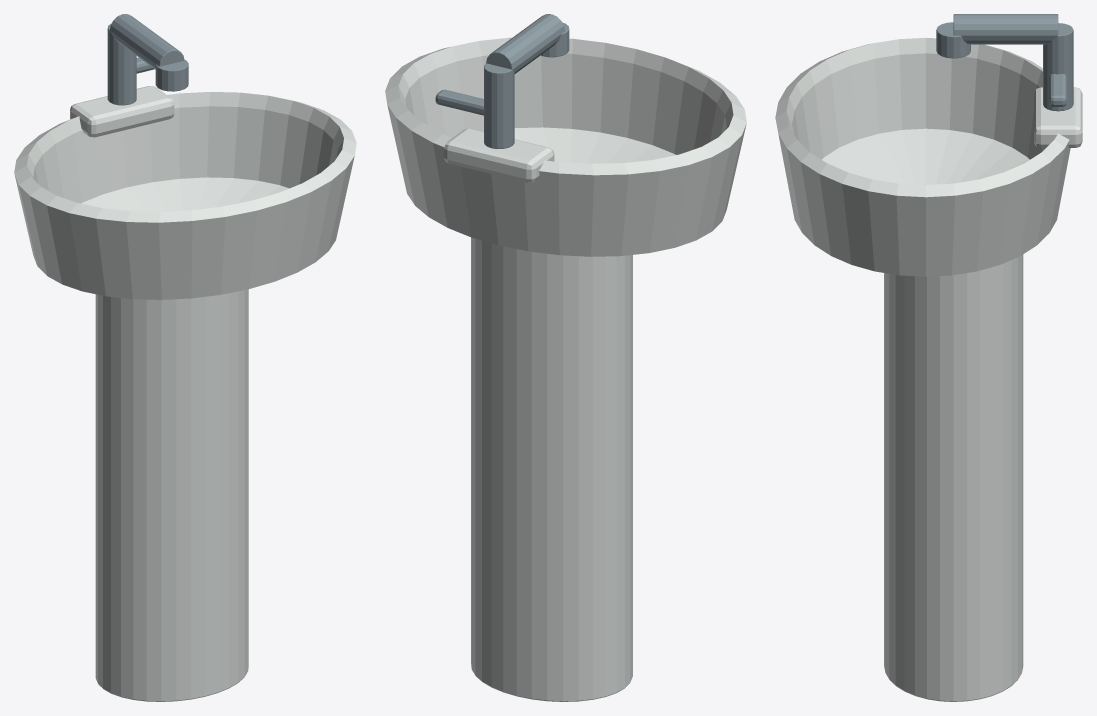
3 renders of one model, left to right at view 1: azimuth 30°, elevation 25°; view 2: azimuth 150°, elevation 25°; view 3: azimuth 270°, elevation 25°, orthographic. The views are drawn at different scales.
Visible parts, largest first — view 1: PEDESTAL, BASIN_Hollow, FAUCET_Plinth, FAUCET_Spout, FAUCET_Stem, FAUCET_Nozzle; view 2: PEDESTAL, BASIN_Hollow, FAUCET_Plinth, FAUCET_Stem, FAUCET_Spout, TAP_Lever; view 3: PEDESTAL, BASIN_Hollow, FAUCET_Spout, FAUCET_Plinth, FAUCET_Stem, FAUCET_Nozzle, TAP_Lever.
Part boxes in pixels (box(x1,y1,x2,y2)): PEDESTAL: box(95, 289, 248, 701); BASIN_Hollow: box(14, 92, 356, 299); FAUCET_Plinth: box(70, 86, 174, 137); FAUCET_Spout: box(110, 14, 184, 69); FAUCET_Stem: box(107, 23, 136, 105); FAUCET_Nozzle: box(155, 59, 188, 91); PEDESTAL: box(471, 237, 632, 701); BASIN_Hollow: box(385, 37, 746, 256); FAUCET_Plinth: box(444, 128, 554, 182); FAUCET_Stem: box(484, 63, 514, 148); FAUCET_Spout: box(486, 14, 564, 73); TAP_Lever: box(435, 89, 483, 115); PEDESTAL: box(884, 254, 1023, 701); BASIN_Hollow: box(775, 37, 1070, 276); FAUCET_Spout: box(953, 14, 1058, 44); FAUCET_Plinth: box(1034, 87, 1082, 147); FAUCET_Stem: box(1043, 23, 1073, 111); FAUCET_Nozzle: box(936, 22, 970, 58); TAP_Lever: box(1049, 74, 1066, 106).
Bounding box in the file's own units: 0.54 × 1.03 × 0.441.
